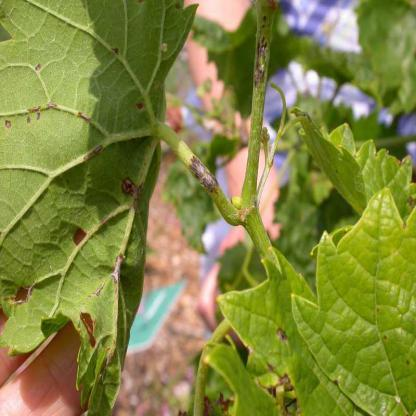grape leaf: (0, 2, 182, 412), (288, 184, 416, 412)
